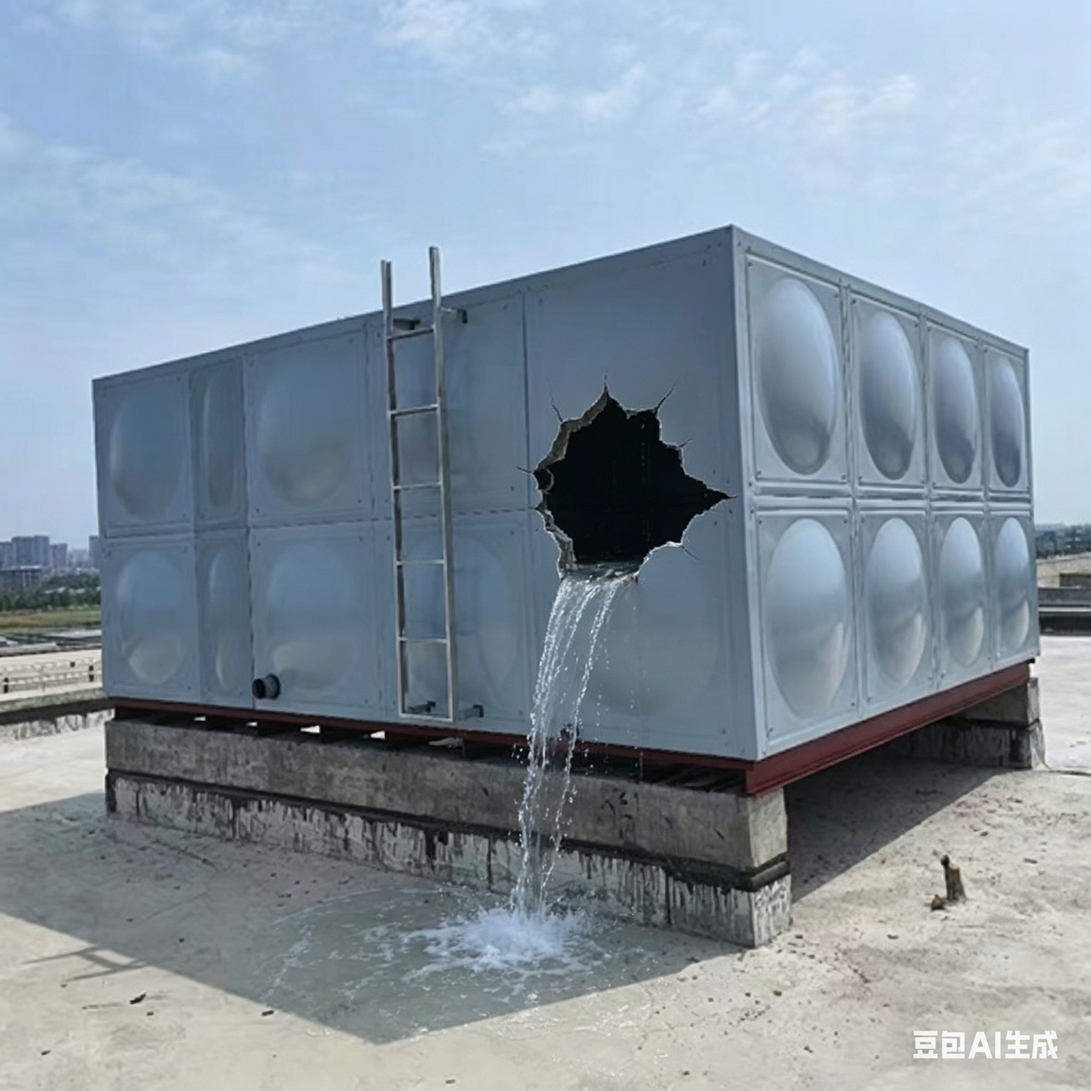Leakage: (509, 554, 636, 981), (375, 888, 521, 983)
